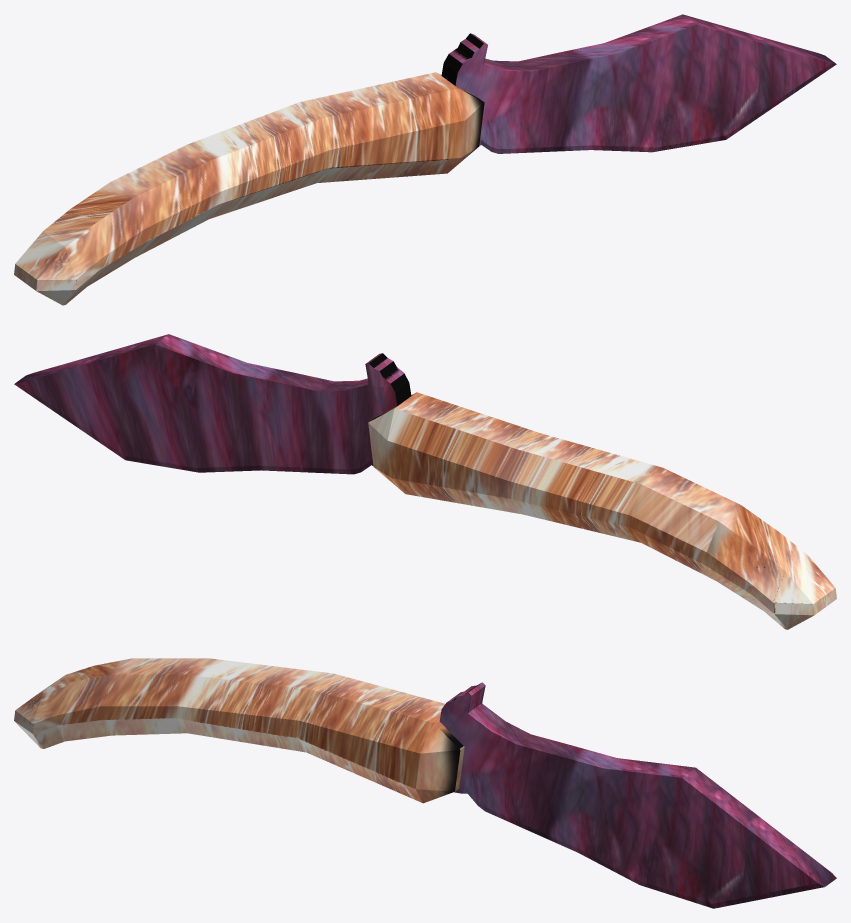
The model's file is thebelg.glb.
3 renders of one model, top to bottom at view 1: azimuth 30°, elevation 25°; view 2: azimuth 150°, elevation 25°; view 3: azimuth 330°, elevation 25°, orthographic.
Parts seen in each view (by area): view 1: Cube, Cube.001; view 2: Cube, Cube.001; view 3: Cube.001, Cube.
Part boxes in pixels (x1,y1,x2,y2): Cube: (14,72,484,305); Cube.001: (441,14,836,153); Cube: (368,392,836,629); Cube.001: (14,334,411,474); Cube.001: (439,682,836,908); Cube: (14,658,464,803).
Size of the model in its own units: 4.7 by 0.8802 by 0.5094.
1 material, 1 textured.
